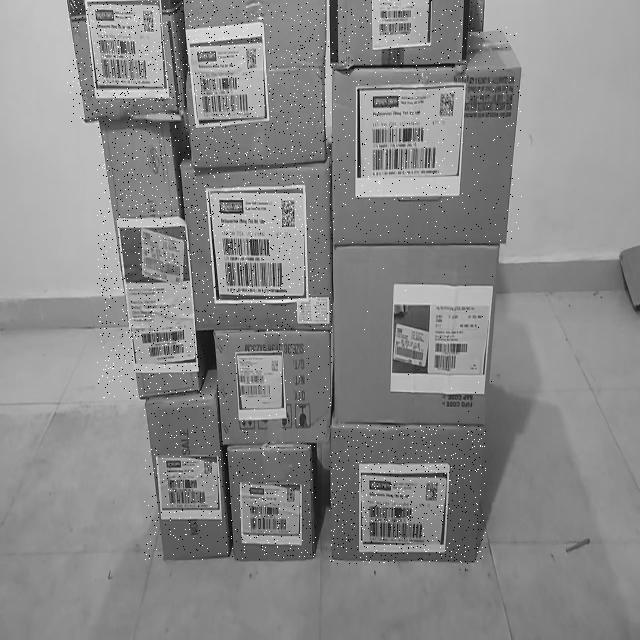BoxFace: (330, 27, 522, 245), (97, 114, 205, 399), (332, 243, 500, 425), (180, 147, 332, 330), (183, 0, 327, 168), (329, 414, 486, 564), (144, 369, 232, 561), (67, 0, 185, 122), (212, 327, 332, 445), (226, 441, 316, 561), (328, 0, 482, 69)
